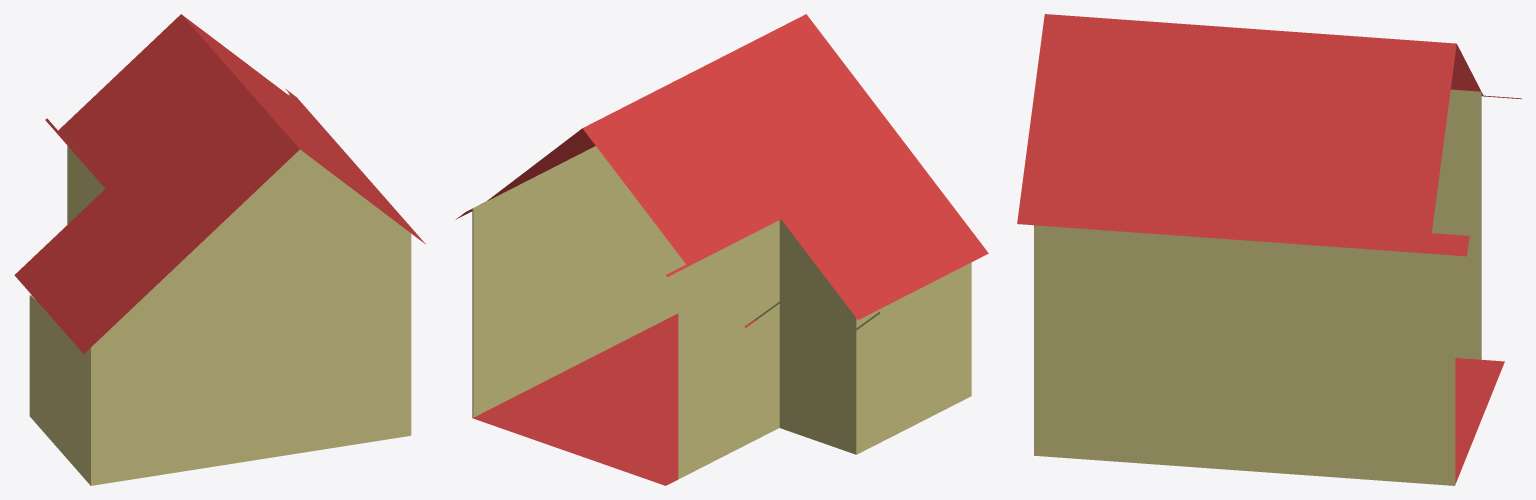
3 views of the same model, side by side, from view 1: azimuth 30°, elevation 25°; view 2: azimuth 150°, elevation 25°; view 3: azimuth 270°, elevation 25° (orthographic). The views are drawn at different scales.
Bounding box in the file's own units: 17.61 × 17.19 × 14.2.
